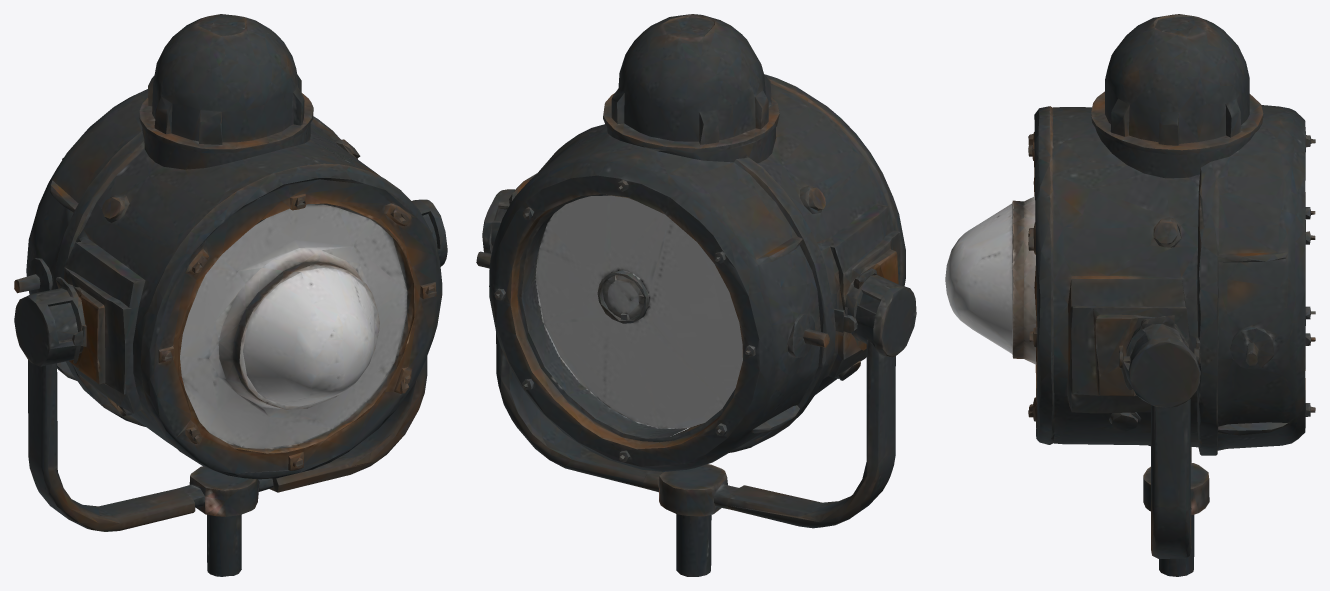
The model's file is searchlight_bracket.glb.
3 renders of one model, left to right at view 1: azimuth 30°, elevation 25°; view 2: azimuth 150°, elevation 25°; view 3: azimuth 270°, elevation 25°, orthographic.
Parts seen in each view (by area): view 1: main; view 2: main; view 3: main.
Boxes of the visible parts, box(x1,y1,x2,y2) form: main: box(14, 14, 447, 576); main: box(476, 14, 916, 576); main: box(945, 14, 1315, 576).
Size of the model in its own units: 0.6143 by 0.7983 by 0.4907.
1 material, 1 textured.
